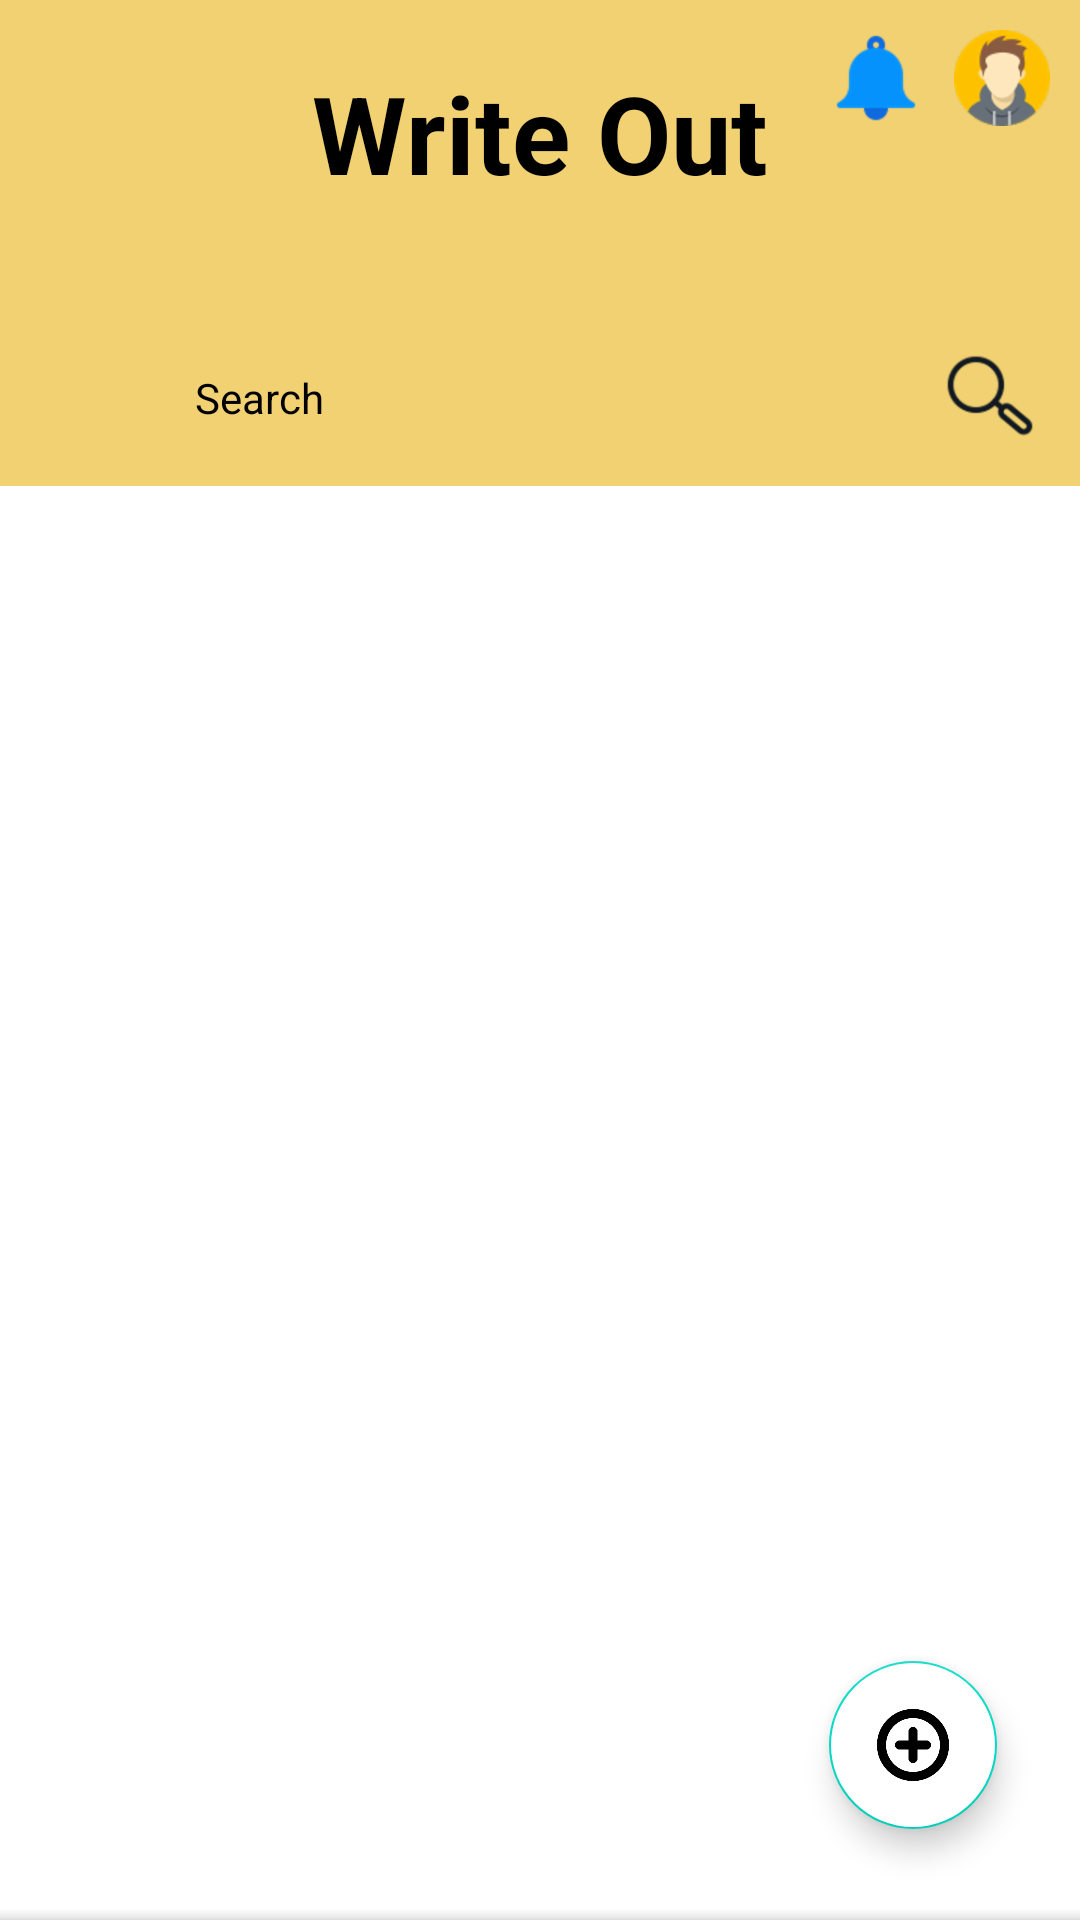

Where to tap for icons on this 1080 x 1920 app screen, as (x=x, y=y):
notification: (x=876, y=78)
plus: (x=913, y=1745)
profile: (x=1002, y=78)
